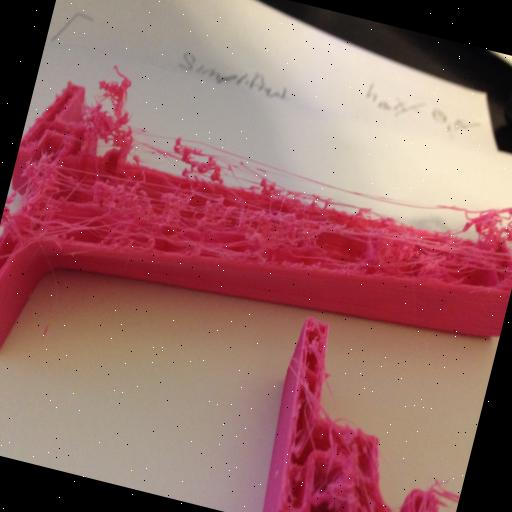stringing: (76, 63, 512, 292), (293, 401, 379, 512), (12, 142, 80, 228), (388, 470, 463, 512)
